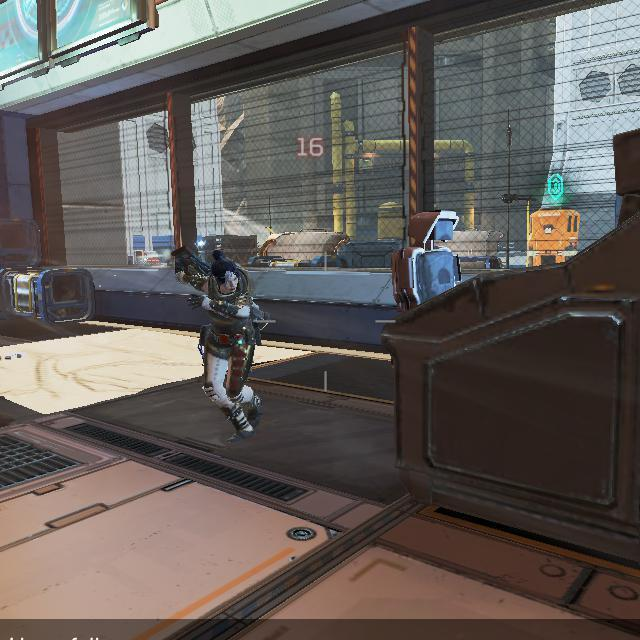avatar: (199, 249, 263, 445)
